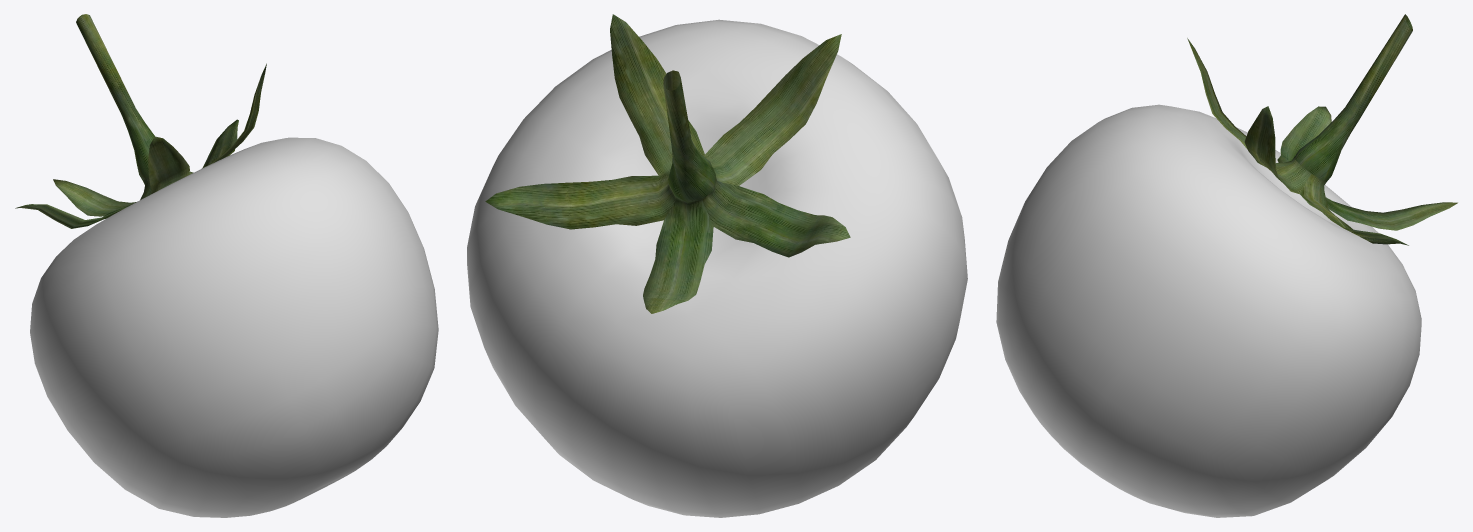
Rendered from tomato.fbx.
3 renders of one model, left to right at view 1: azimuth 30°, elevation 25°; view 2: azimuth 150°, elevation 25°; view 3: azimuth 270°, elevation 25°, orthographic. The views are drawn at different scales.
Visible parts, largest first — view 1: Tomat075; view 2: Tomat075; view 3: Tomat075.
Boxes of the visible parts, x1,y1,x2,y2 form: Tomat075: (15,14,438,517); Tomat075: (467,14,967,517); Tomat075: (996,14,1457,517).
Bounding box in the file's own units: 464 × 538 × 499.
